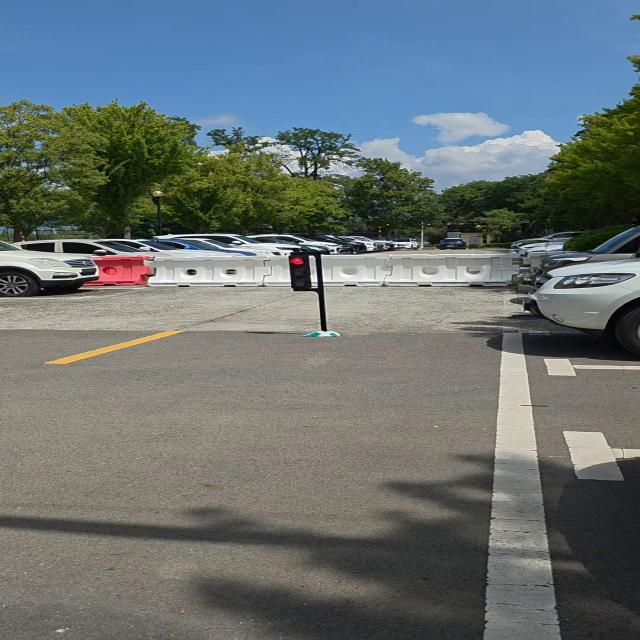red: (285, 251, 319, 293)
